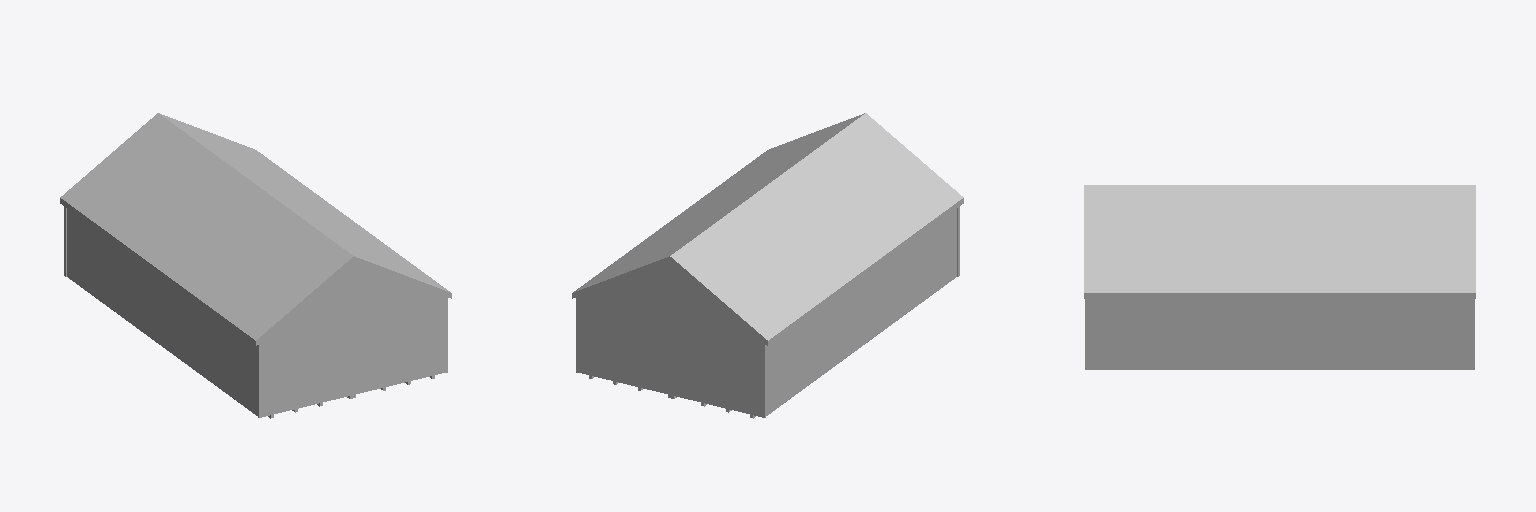
File: Double Garage 6-12 PITCH ROOF_20x36.obj
3 renders of one model, left to right at view 1: azimuth 30°, elevation 25°; view 2: azimuth 150°, elevation 25°; view 3: azimuth 270°, elevation 25°, orthographic.
Visible parts, largest first — view 1: Double Garage 6-12 PITCH ROOF_20x36.obj; view 2: Double Garage 6-12 PITCH ROOF_20x36.obj; view 3: Double Garage 6-12 PITCH ROOF_20x36.obj.
Boxes of the visible parts, x1=… form: Double Garage 6-12 PITCH ROOF_20x36.obj: x1=60, y1=113, x2=451, y2=418; Double Garage 6-12 PITCH ROOF_20x36.obj: x1=572, y1=113, x2=963, y2=418; Double Garage 6-12 PITCH ROOF_20x36.obj: x1=1084, y1=185, x2=1475, y2=369.
Size of the model in its own units: 6.4 by 4.46 by 11.07.